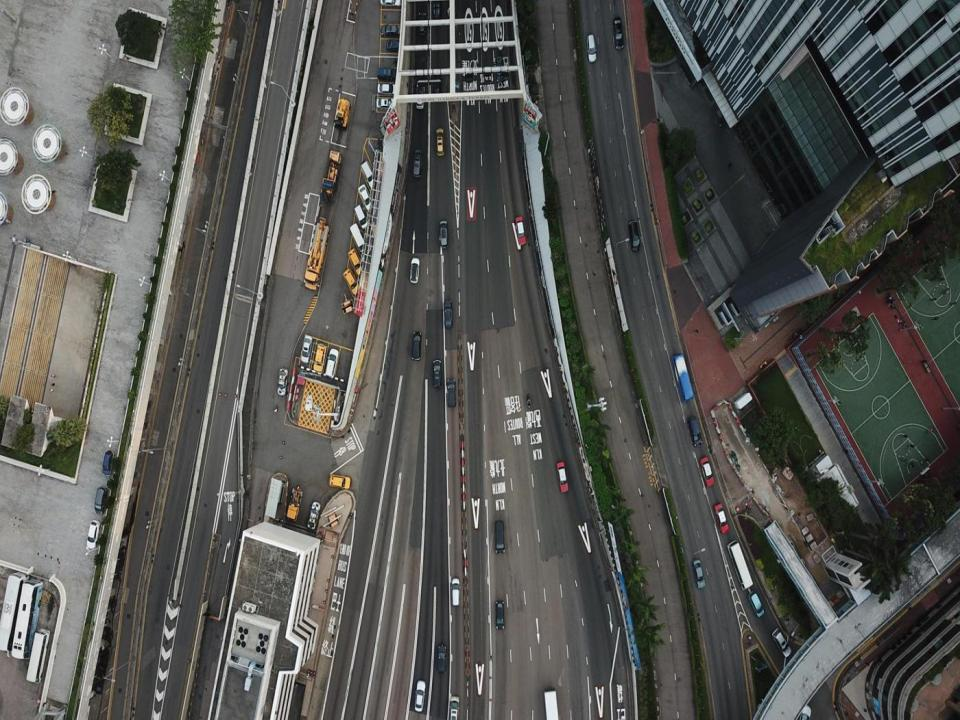bus: (11, 578, 44, 659), (0, 570, 29, 656), (26, 627, 50, 682), (727, 540, 753, 590), (672, 354, 694, 402)
car: (714, 502, 730, 534), (358, 184, 374, 213), (700, 456, 714, 488), (86, 520, 101, 547), (414, 680, 426, 712), (693, 560, 706, 589), (300, 334, 312, 364), (557, 460, 568, 492), (514, 216, 526, 245), (308, 502, 320, 530), (613, 16, 623, 49), (277, 367, 288, 395), (443, 300, 453, 329), (495, 600, 504, 630), (437, 644, 446, 674), (376, 96, 396, 109), (381, 23, 401, 36), (377, 82, 396, 94), (410, 258, 419, 283), (434, 69, 442, 96), (495, 56, 503, 82), (798, 704, 811, 719), (386, 39, 400, 52), (380, 0, 400, 7)
truck: (304, 216, 330, 290), (320, 150, 342, 204), (287, 486, 303, 521), (544, 687, 559, 719)
van: (772, 627, 792, 658), (349, 222, 366, 254), (359, 160, 377, 189), (687, 416, 702, 447), (747, 590, 764, 617), (348, 248, 364, 276), (344, 268, 360, 295), (94, 486, 108, 515), (325, 349, 339, 378), (313, 344, 327, 373), (411, 148, 422, 179), (495, 520, 505, 554), (355, 204, 368, 230), (329, 474, 351, 489), (629, 221, 640, 251), (102, 450, 115, 475), (586, 34, 597, 63), (411, 331, 422, 360), (377, 66, 399, 80), (450, 578, 461, 606), (448, 695, 460, 719), (447, 378, 456, 408), (439, 220, 448, 248), (433, 359, 441, 387), (436, 128, 444, 155), (416, 86, 424, 109), (433, 0, 441, 21), (419, 12, 426, 36)
